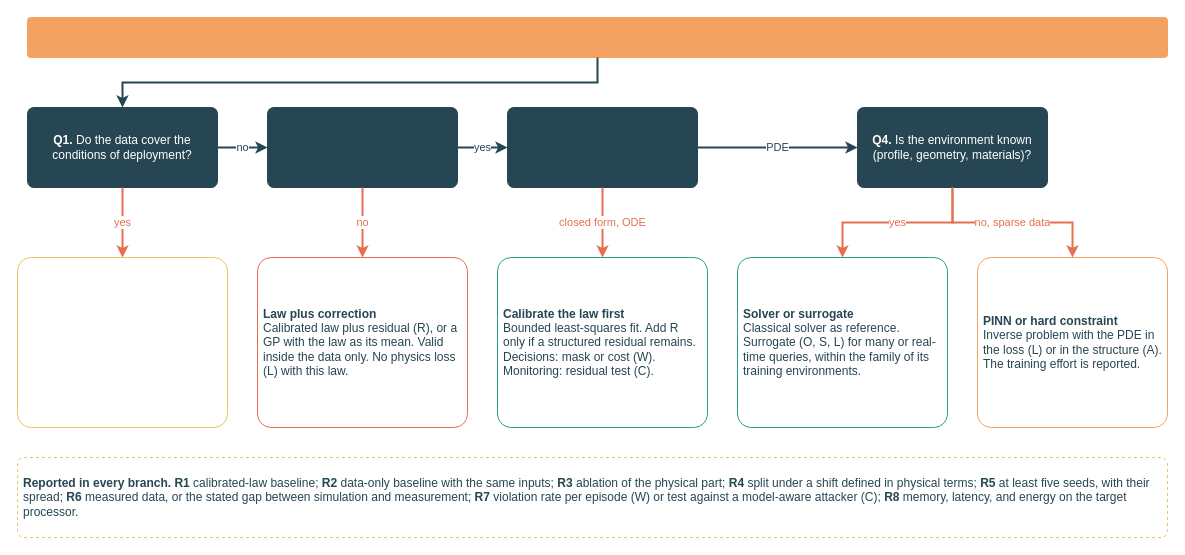
The diagram is 1185 pixels wide and 555 high, and some of its shapes have lost their labels. Each missing label, with the centre of its shape:
Data-driven model Physics is optional, as input features (F).: the point at 122,342
Q2. Is the form of the law trusted in this environment?: the point at 362,147
Q3. Is the law a closed form or an ODE, or a PDE that needs a solver?: the point at 602,147
Task with a known governing law and a set of measurements: the point at 597,37
